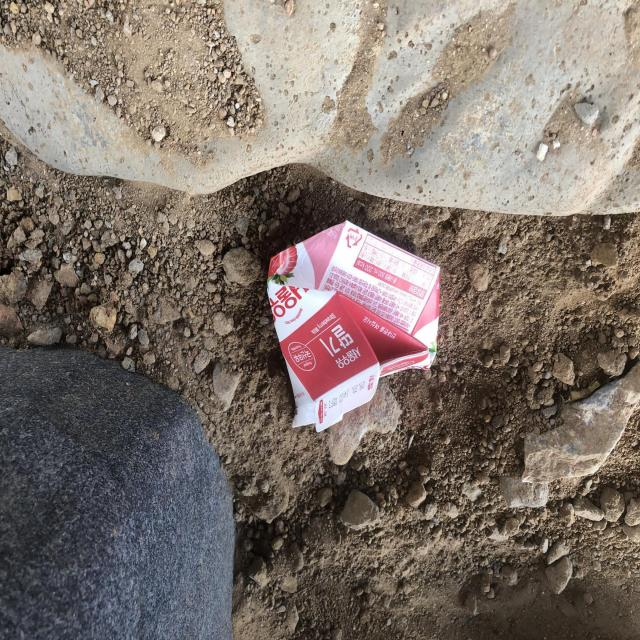paperpack: (267, 221, 440, 432)
